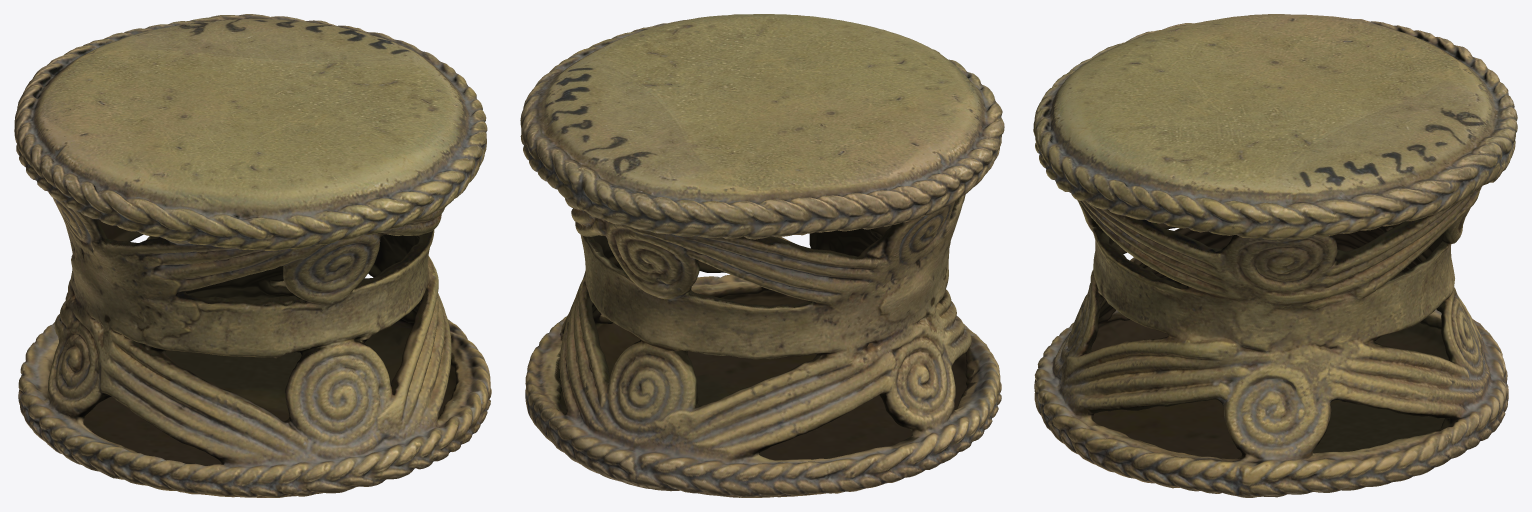
File: ear_ornament_quimbaya_culture.glb
3 views of the same model, side by side, from view 1: azimuth 30°, elevation 25°; view 2: azimuth 150°, elevation 25°; view 3: azimuth 270°, elevation 25° (orthographic).
Parts seen in each view (by area): view 1: Object_2; view 2: Object_2; view 3: Object_2.
Boxes of the visible parts, <box> form: Object_2: <box>14,14,491,497</box>; Object_2: <box>520,14,1004,497</box>; Object_2: <box>1033,14,1517,497</box>.
Size of the model in its own units: 0.0212 by 0.0157 by 0.0216.
Materials: 1 (1 with a texture image).
